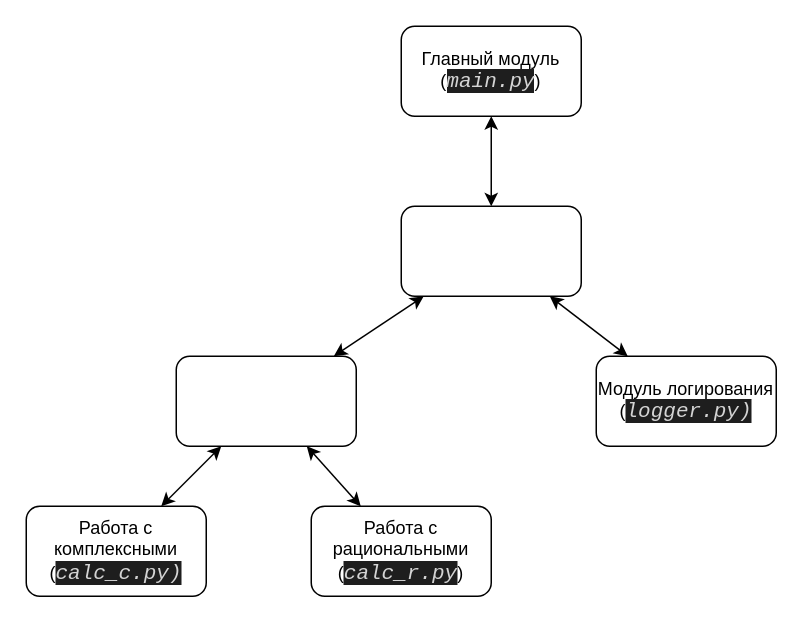
The diagram is 803 pixels wide and 623 high, and some of its shapes have lost their labels. The centre of each missing label's shape, as x and y in pixels:
"Модуль проверки и вызов расчетов ( calc.py )" goes at point (265, 400).
"Обработчик команд ( bot_commands)" goes at point (490, 250).
